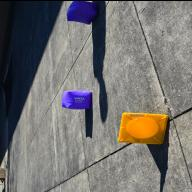cone: (118, 112, 170, 144)
cube: (66, 0, 98, 24), (62, 89, 92, 109)
